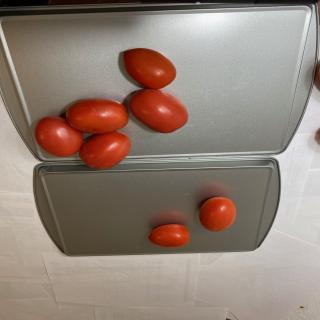Tomato: (129, 88, 189, 134), (65, 98, 128, 134), (123, 48, 177, 89), (34, 116, 84, 158), (79, 131, 131, 170), (198, 196, 236, 232), (148, 224, 190, 248)
